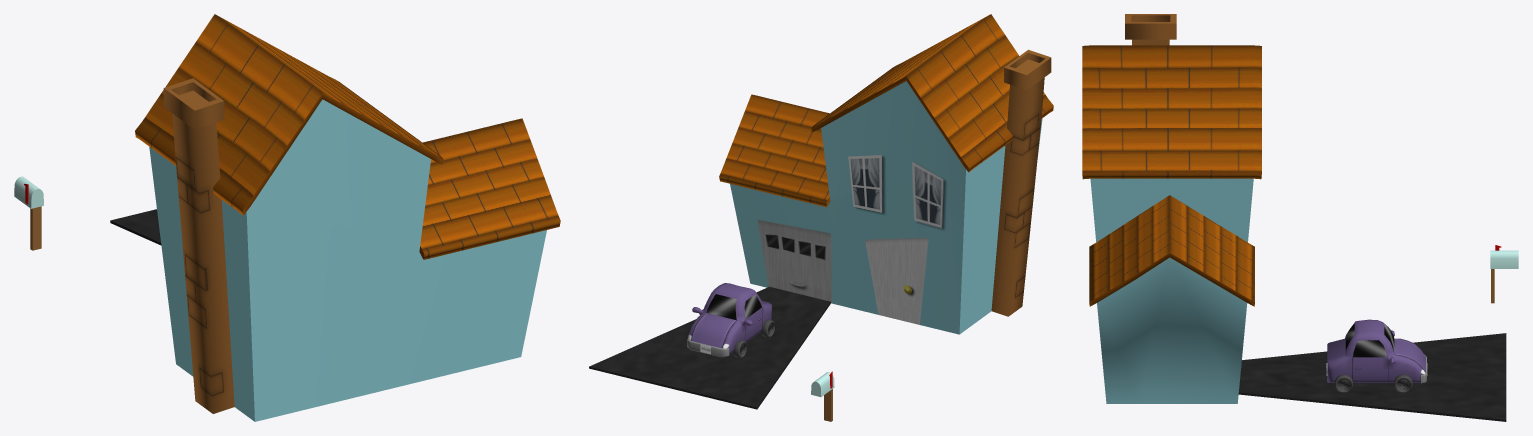
File: house_7_9_13.FBX
3 renders of one model, left to right at view 1: azimuth 30°, elevation 25°; view 2: azimuth 150°, elevation 25°; view 3: azimuth 270°, elevation 25°, orthographic. The views are drawn at different scales.
Parts seen in each view (by area): view 1: Box001, Box004, Cylinder007, Box005; view 2: Box001, Box004, Box003; view 3: Box001, Box004, Box003, Cylinder007.
Boxes of the visible parts, x1,y1,x2,y2 form: Box001: [135, 14, 560, 421]; Box004: [110, 209, 161, 245]; Cylinder007: [14, 176, 43, 208]; Box005: [30, 206, 41, 250]; Box001: [719, 14, 1053, 334]; Box004: [589, 286, 830, 409]; Box003: [687, 283, 771, 357]; Box001: [1082, 14, 1261, 403]; Box004: [1238, 333, 1506, 421]; Box003: [1327, 319, 1426, 383]; Cylinder007: [1490, 250, 1518, 268].
Bounding box in the file's own units: 71.2 × 62.39 × 90.17.
